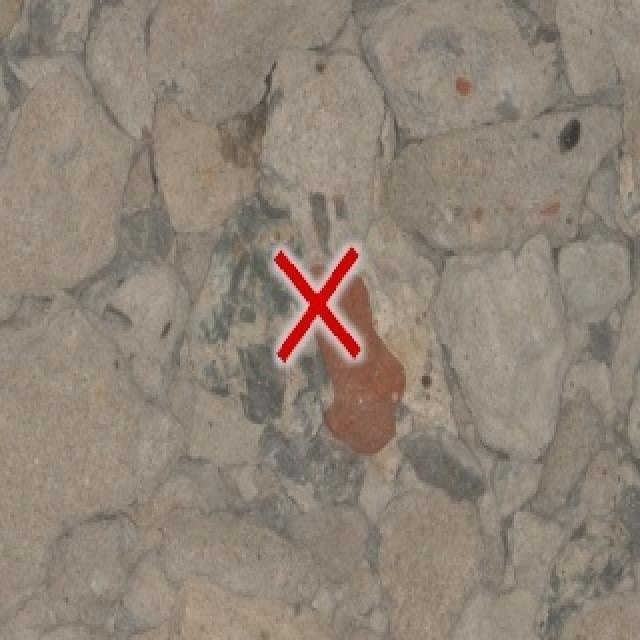x_marker: (275, 247, 359, 361)
